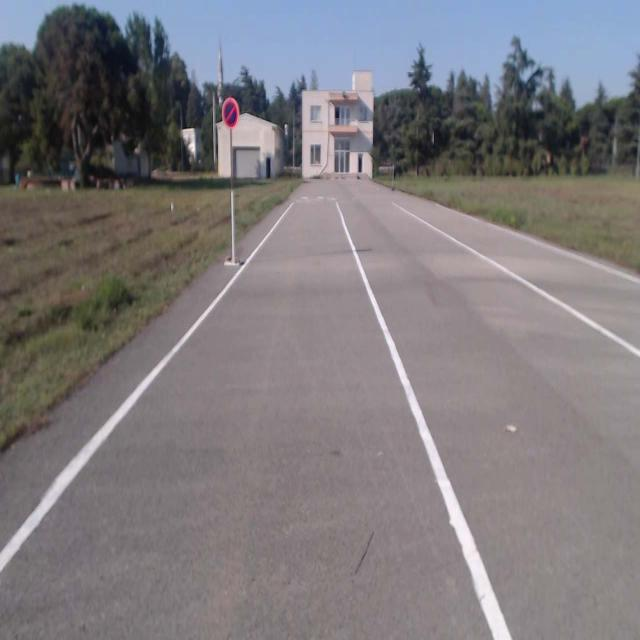parkyasak: (221, 97, 239, 128)
